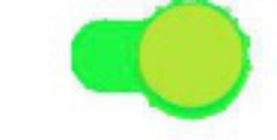Switch: (1, 1, 276, 139)
